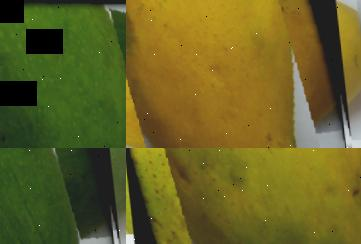PartiallyRipe: (126, 148, 361, 244)
Ripe: (126, 0, 347, 148)
Unripe: (0, 0, 126, 148), (0, 148, 117, 244)
